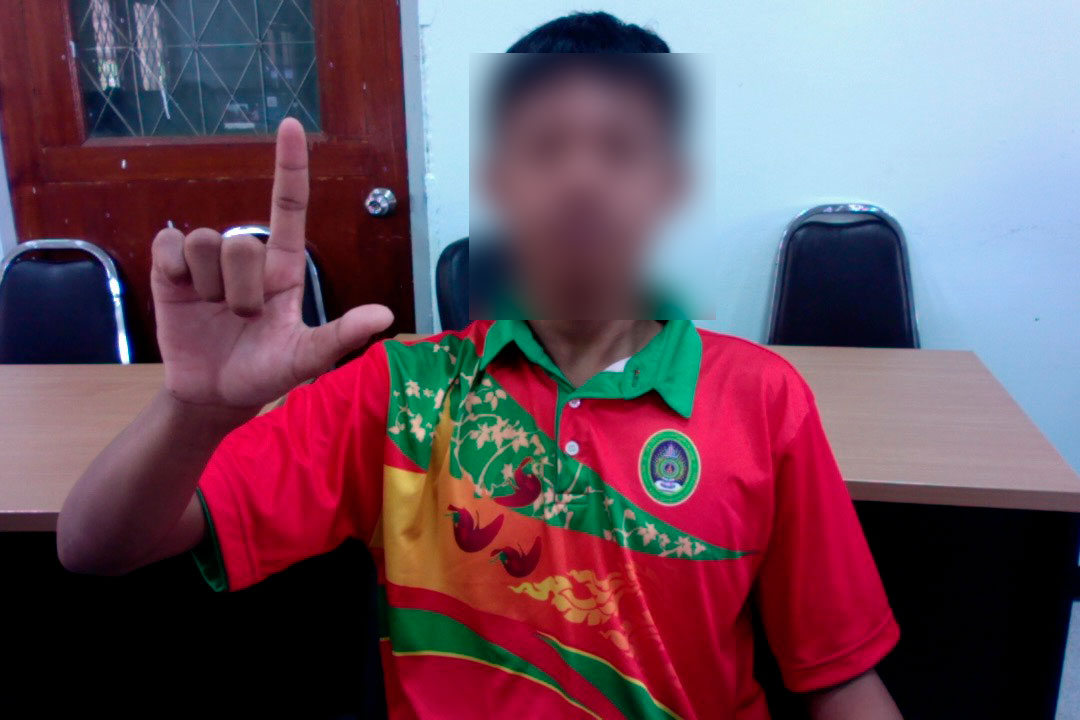lor: (119, 107, 412, 411)
